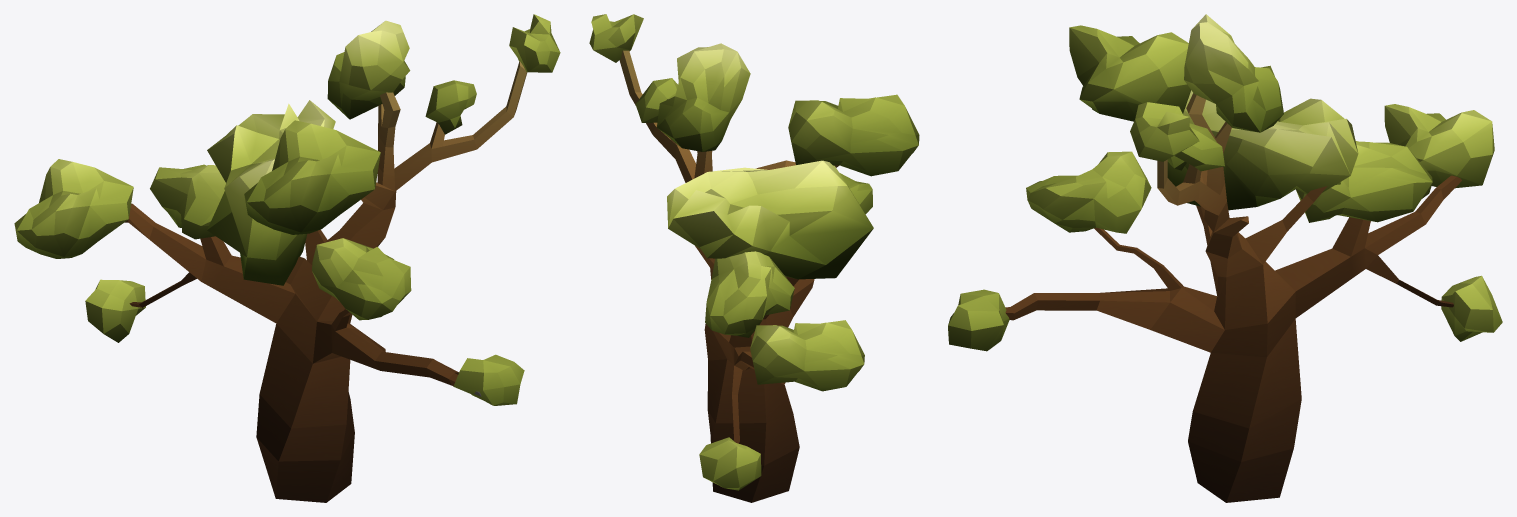
The model's file is ceiba_leaves_export2.fbx.
3 renders of one model, left to right at view 1: azimuth 30°, elevation 25°; view 2: azimuth 150°, elevation 25°; view 3: azimuth 270°, elevation 25°, orthographic. The views are drawn at different scales.
Parts seen in each view (by area): view 1: ceiba_1_group1; view 2: ceiba_1_group1; view 3: ceiba_1_group1.
Boxes of the visible parts, <box> form: ceiba_1_group1: <box>14,14,560,502</box>; ceiba_1_group1: <box>589,14,919,502</box>; ceiba_1_group1: <box>948,14,1502,502</box>.
Bounding box in the file's own units: 4.78 × 5 × 5.13.
